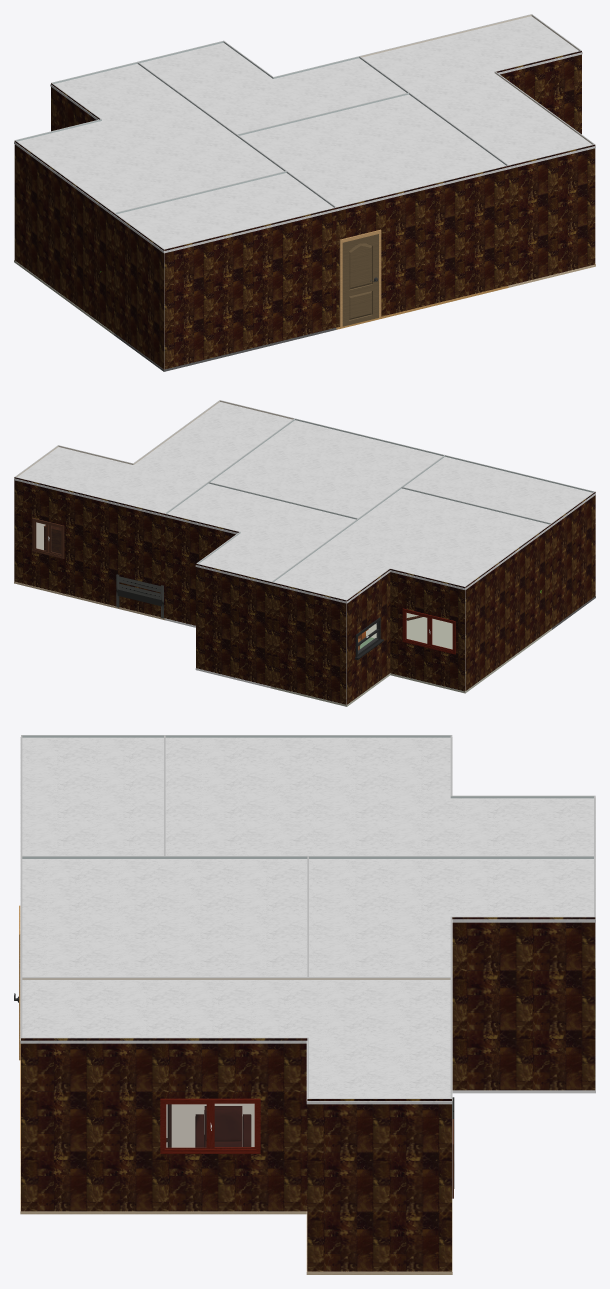
Rendered from ProcTHOR-Train-46.glb.
3 renders of one model, top to bottom at view 1: azimuth 30°, elevation 25°; view 2: azimuth 150°, elevation 25°; view 3: azimuth 270°, elevation 25°, orthographic. The views are drawn at different scales.
Parts seen in each view (by area): view 1: Ceiling#room|4|c, WallInside#wall|exterior|8.71|10.89|13.06|10.89, WallInside#wall|exterior|4.36|10.89|8.71|10.89, Ceiling#room|8|c, Ceiling#room|6|c, Ceiling#room|9|c, WallInside#wall|exterior|13.06|4.36|13.06|8.71, WallInside#wall|exterior|2.18|10.89|4.36|10.89, Ceiling#room|5|c, WallInside#wall|exterior|13.06|8.71|13.06|10.89, Doorway_6, WallInside#wall|exterior|0.00|6.53|2.18|6.53 (+3 smaller); view 2: Ceiling#room|4|c, WallInside#wall|exterior|0.00|4.36|4.36|4.36, Ceiling#room|6|c, Ceiling#room|8|c, Ceiling#room|9|c, WallInside#wall|exterior|13.06|4.36|13.06|8.71, WallInside#wall|exterior|6.53|2.18|8.71|2.18, WallInside#wall|exterior|8.71|2.18|10.89|2.18, Ceiling#room|5|c, WallInside#wall|exterior|10.89|4.36|13.06|4.36, WallInside#wall|exterior|13.06|8.71|13.06|10.89, WallInside#wall|exterior|4.36|4.36|6.53|4.36 (+6 smaller); view 3: WallInside#wall|exterior|2.18|6.53|2.18|10.89, Ceiling#room|4|c, Ceiling#room|6|c, Ceiling#room|8|c, Ceiling#room|9|c, WallInside#wall|exterior|0.00|4.36|0.00|6.53, WallInside#wall|exterior|6.53|2.18|6.53|4.36, Ceiling#room|5|c, WallInside#wall|6|4.36|6.53|4.36|10.89, Window_Slider_60x36, Floor#room|6|f, Armchair_226_1 (+2 smaller).
Part boxes in pixels (x1,y1,x2,y2): Ceiling#room|4|c: (14, 63, 285, 216); WallInside#wall|exterior|8.71|10.89|13.06|10.89: (164, 207, 337, 369); WallInside#wall|exterior|4.36|10.89|8.71|10.89: (336, 165, 509, 327); Ceiling#room|8|c: (237, 94, 508, 211); Ceiling#room|6|c: (361, 16, 595, 169); Ceiling#room|9|c: (139, 42, 406, 136); WallInside#wall|exterior|13.06|4.36|13.06|8.71: (14, 140, 114, 332); WallInside#wall|exterior|2.18|10.89|4.36|10.89: (509, 144, 595, 285); Ceiling#room|5|c: (113, 173, 336, 253); WallInside#wall|exterior|13.06|8.71|13.06|10.89: (114, 213, 163, 369); Doorway_6: (339, 229, 381, 327); WallInside#wall|exterior|0.00|6.53|2.18|6.53: (496, 51, 581, 134); Ceiling#room|4|c: (270, 488, 551, 603); WallInside#wall|exterior|0.00|4.36|4.36|4.36: (14, 477, 165, 618); Ceiling#room|6|c: (14, 402, 294, 516); Ceiling#room|8|c: (211, 420, 444, 519); Ceiling#room|9|c: (165, 483, 355, 584); WallInside#wall|exterior|13.06|4.36|13.06|8.71: (465, 523, 552, 690); WallInside#wall|exterior|6.53|2.18|8.71|2.18: (196, 563, 271, 686); WallInside#wall|exterior|8.71|2.18|10.89|2.18: (271, 582, 346, 704); Ceiling#room|5|c: (404, 456, 595, 526); WallInside#wall|exterior|10.89|4.36|13.06|4.36: (390, 568, 465, 691); WallInside#wall|exterior|13.06|8.71|13.06|10.89: (552, 492, 595, 627); WallInside#wall|exterior|4.36|4.36|6.53|4.36: (165, 513, 239, 625); WallInside#wall|exterior|2.18|6.53|2.18|10.89: (21, 1038, 308, 1211); Ceiling#room|4|c: (163, 737, 595, 857); Ceiling#room|6|c: (20, 979, 452, 1104); Ceiling#room|8|c: (20, 858, 309, 979); Ceiling#room|9|c: (306, 858, 595, 979); WallInside#wall|exterior|0.00|4.36|0.00|6.53: (307, 1098, 451, 1271); WallInside#wall|exterior|6.53|2.18|6.53|4.36: (451, 917, 595, 1090); Ceiling#room|5|c: (20, 737, 166, 858); WallInside#wall|6|4.36|6.53|4.36|10.89: (22, 977, 308, 1147); Window_Slider_60x36: (160, 1098, 260, 1153); Floor#room|6|f: (20, 1149, 452, 1274); Armchair_226_1: (195, 1106, 251, 1147).
Size of what is drawn, in the model's own units: 13.12 by 2.95 by 8.85.
358 materials, 137 textured.
